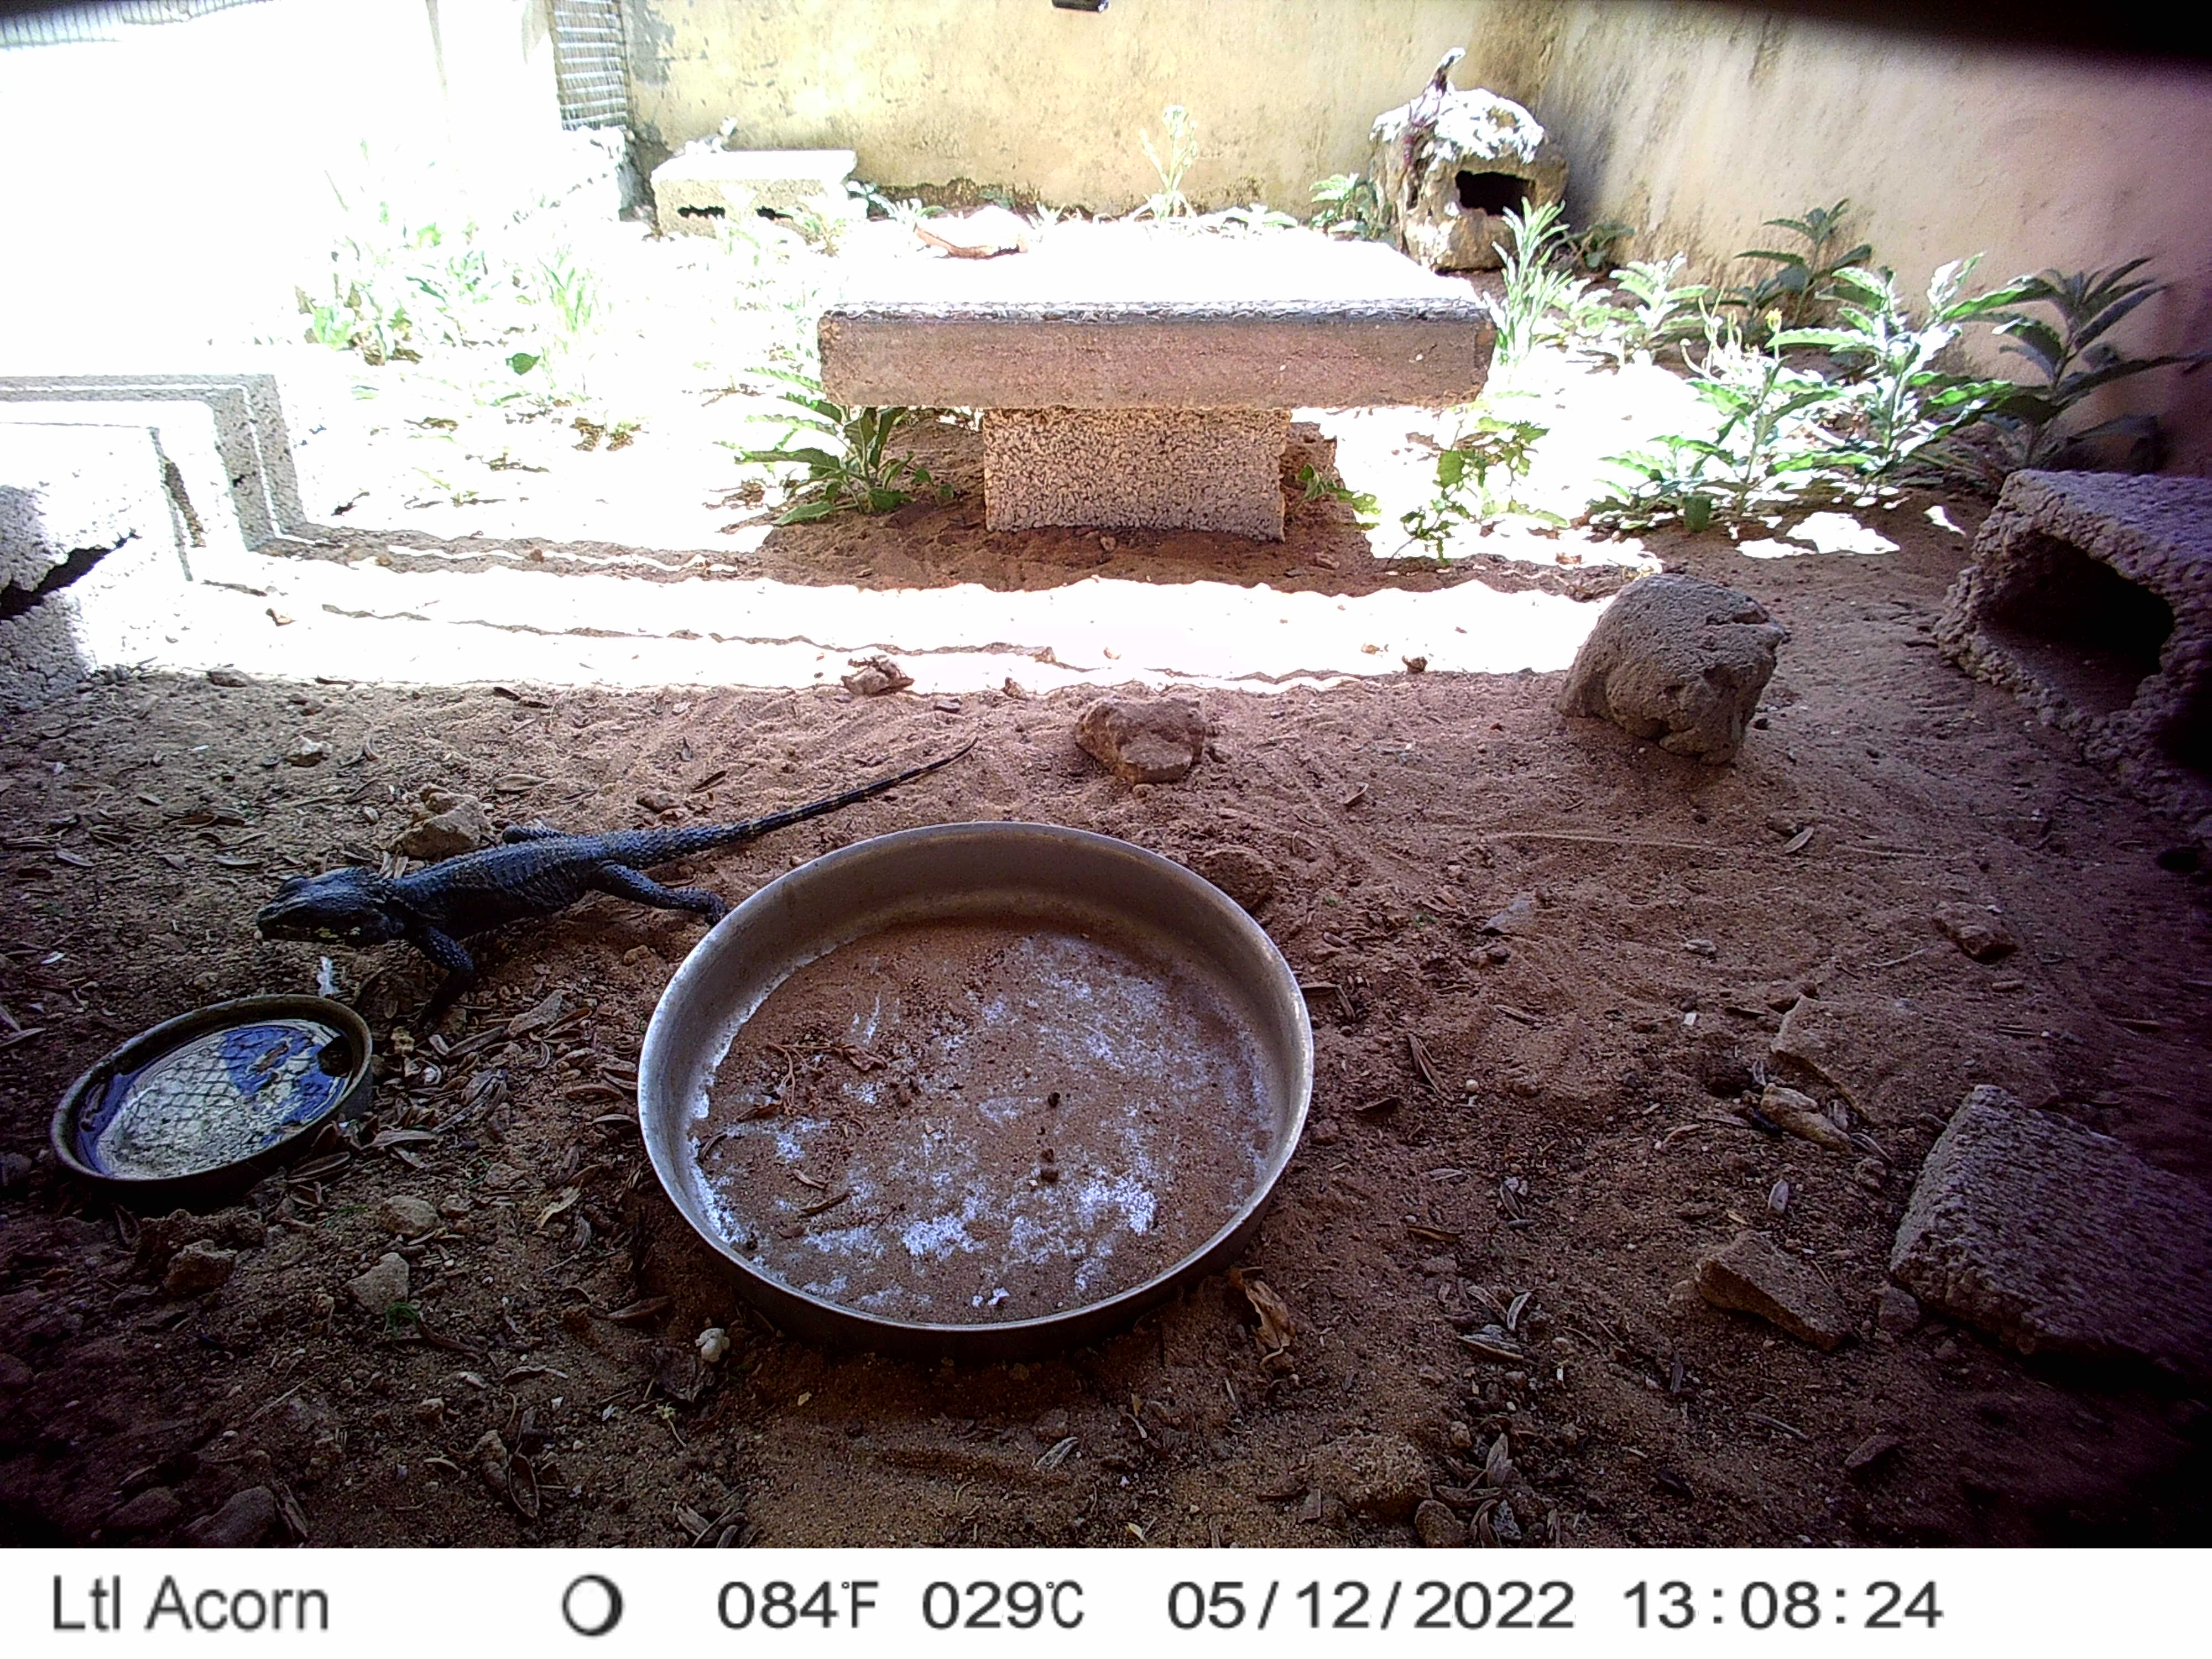lizard: (247, 728, 982, 1025), (1386, 42, 1470, 197), (658, 115, 742, 166)
